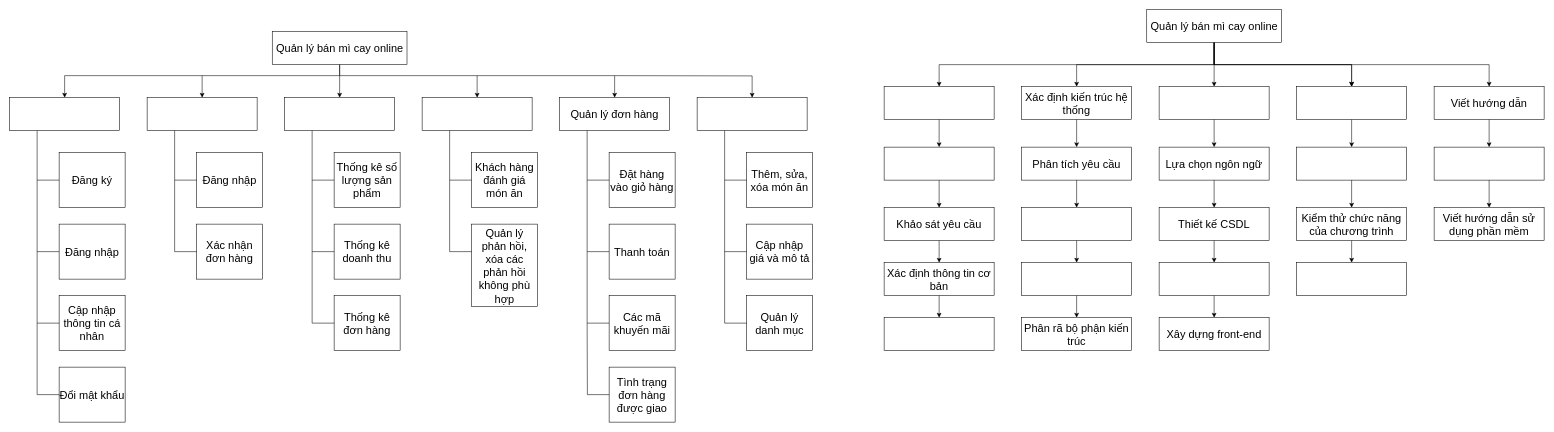
This 1554x432 diagram has some shape labels left out. Each missing label, with the centre of its shape:
Báo cáo thống kê: point (339, 114)
Cài đặt chương trình: point (1214, 103)
Kiểm thử: point (1351, 103)
Kiểm thử tính ổn định của hệ thống: point (1351, 279)
Kiểm tra tính đúng đắn của dữ liệu: point (1351, 163)
Lên kế hoạch triển khai: point (939, 334)
Mô tả yêu cầu: point (939, 163)
Phân tích chức năng: point (1076, 224)
Quản lý dự án: point (939, 103)
Quản lý khách hàng: point (64, 114)
Quản lý nhân viên: point (202, 114)
Quản lý phản hồi, đánh giá: point (477, 114)
Quản lý sản phẩm: point (752, 114)
Viết tài liệu đặc tả kiến trúc: point (1489, 163)
Xác định kiến trúc tổng quát: point (1076, 279)
Xây dựng back-end: point (1214, 279)
